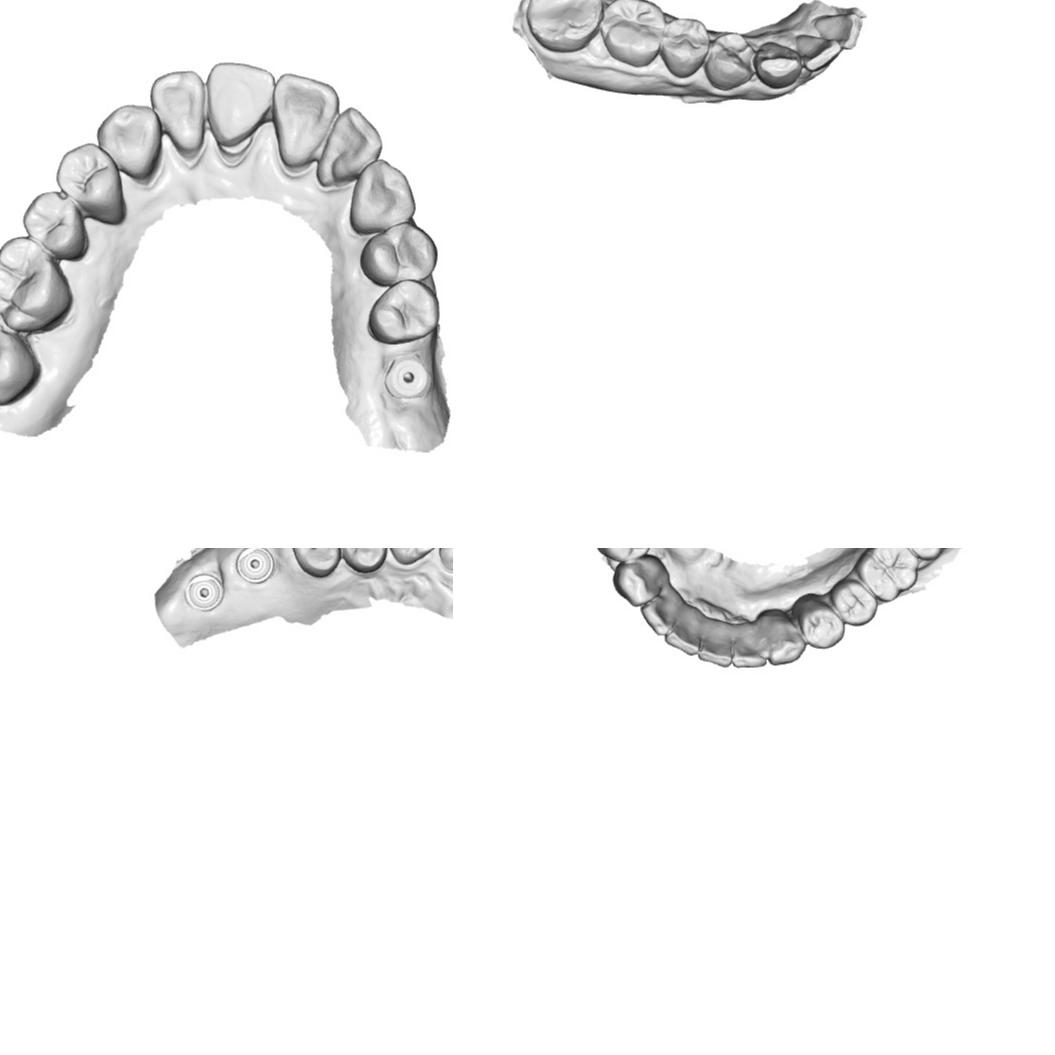canine: (96, 101, 164, 180), (347, 159, 414, 236), (611, 555, 663, 608), (752, 39, 803, 90), (764, 614, 808, 666), (385, 548, 444, 567)
implant: (384, 353, 429, 400), (182, 573, 225, 614), (234, 548, 276, 584)
incisor: (271, 69, 333, 169), (206, 61, 271, 147), (315, 108, 387, 183), (149, 67, 209, 153), (811, 11, 865, 52), (662, 606, 703, 658), (794, 32, 842, 74), (696, 621, 734, 669), (641, 584, 675, 637), (731, 624, 767, 668)
molar: (0, 234, 67, 331), (597, 0, 666, 68), (524, 0, 605, 53), (0, 308, 39, 408), (853, 548, 920, 604), (895, 548, 956, 561)
premolar: (55, 141, 125, 218), (364, 278, 441, 347), (359, 221, 438, 284), (18, 190, 88, 259), (660, 16, 712, 79), (703, 30, 755, 92), (827, 576, 879, 628), (797, 596, 846, 650), (288, 548, 344, 579), (335, 548, 388, 575), (594, 548, 654, 564)
